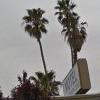Tree: (15, 3, 89, 58)
